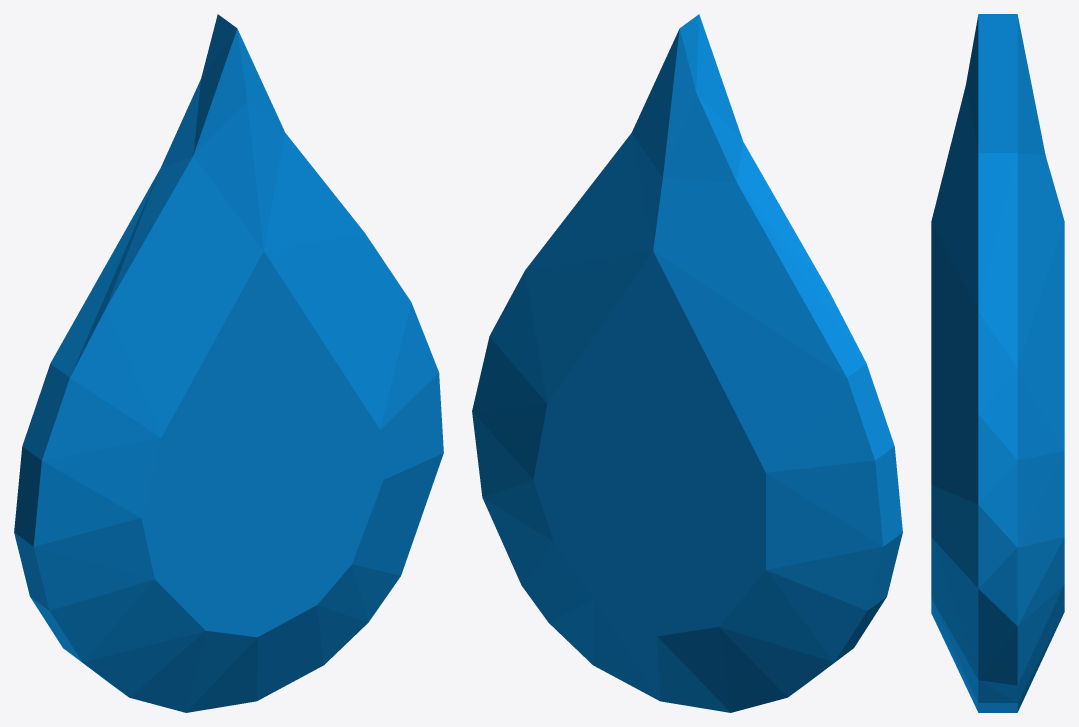
The model's file is Diamond3D.fbx.
3 views of the same model, side by side, from view 1: azimuth 30°, elevation 25°; view 2: azimuth 150°, elevation 25°; view 3: azimuth 270°, elevation 25° (orthographic).
Visible parts, largest first — view 1: Drop; view 2: Drop; view 3: Drop.
Part boxes in pixels (x1,y1,x2,y2): Drop: (14,14,443,712); Drop: (472,14,902,712); Drop: (931,14,1064,712).
Size of the model in its own units: 0.5473 by 0.8619 by 0.1537.
